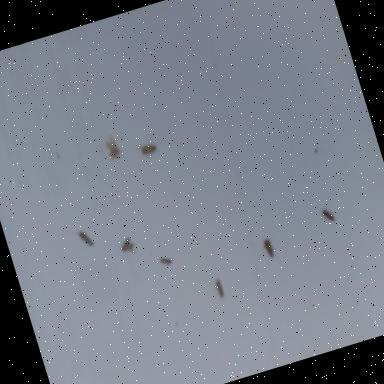pbw: (102, 137, 120, 162), (116, 236, 136, 256), (79, 231, 94, 249), (322, 208, 336, 224), (263, 240, 275, 258), (140, 144, 157, 156), (214, 280, 225, 298), (160, 255, 172, 267)
